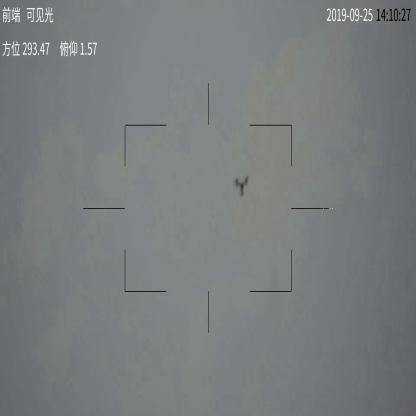uav: (233, 170, 251, 198)
